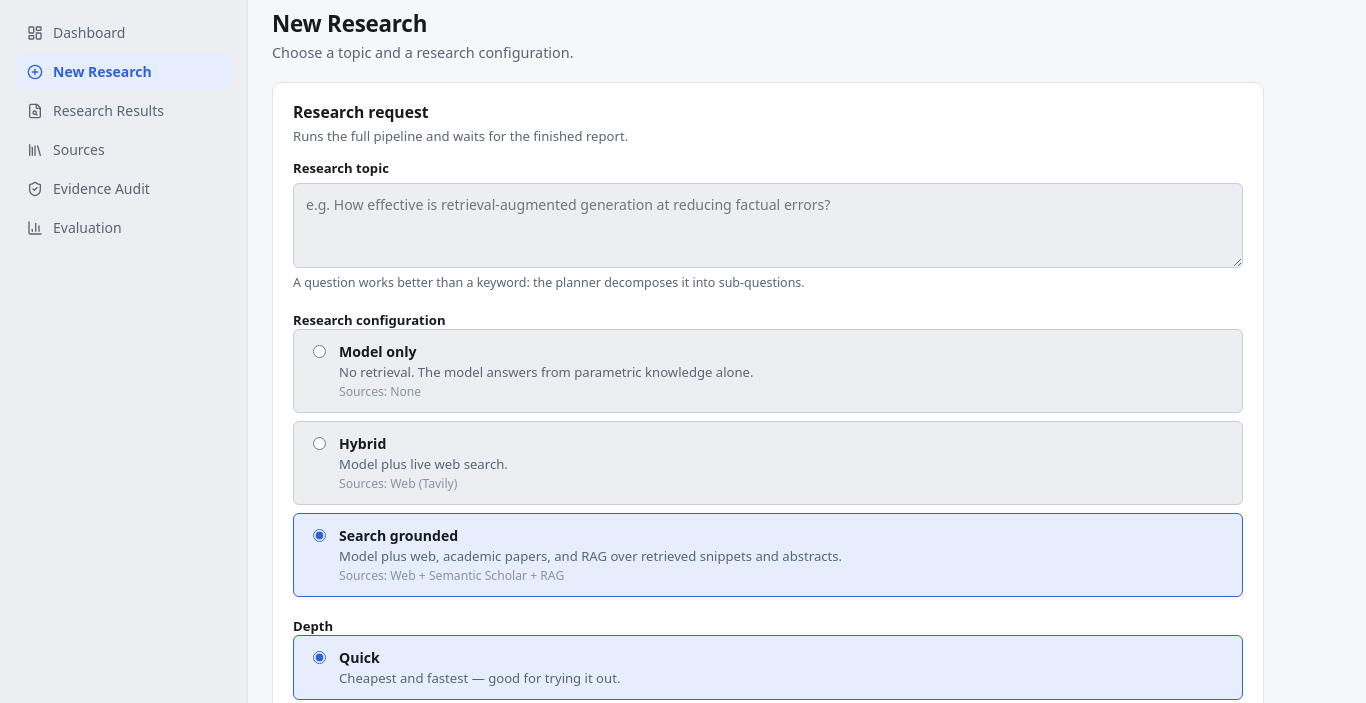
Test case: submission › shows the error envelope, with its code and request id, on failure
The image size is (1366, 703).
Type "Does retrieval reduce hallucination?" into the text box labelled "Research topic". click: point(768, 226)
box: [293, 183, 1243, 268]
(page scrolled)
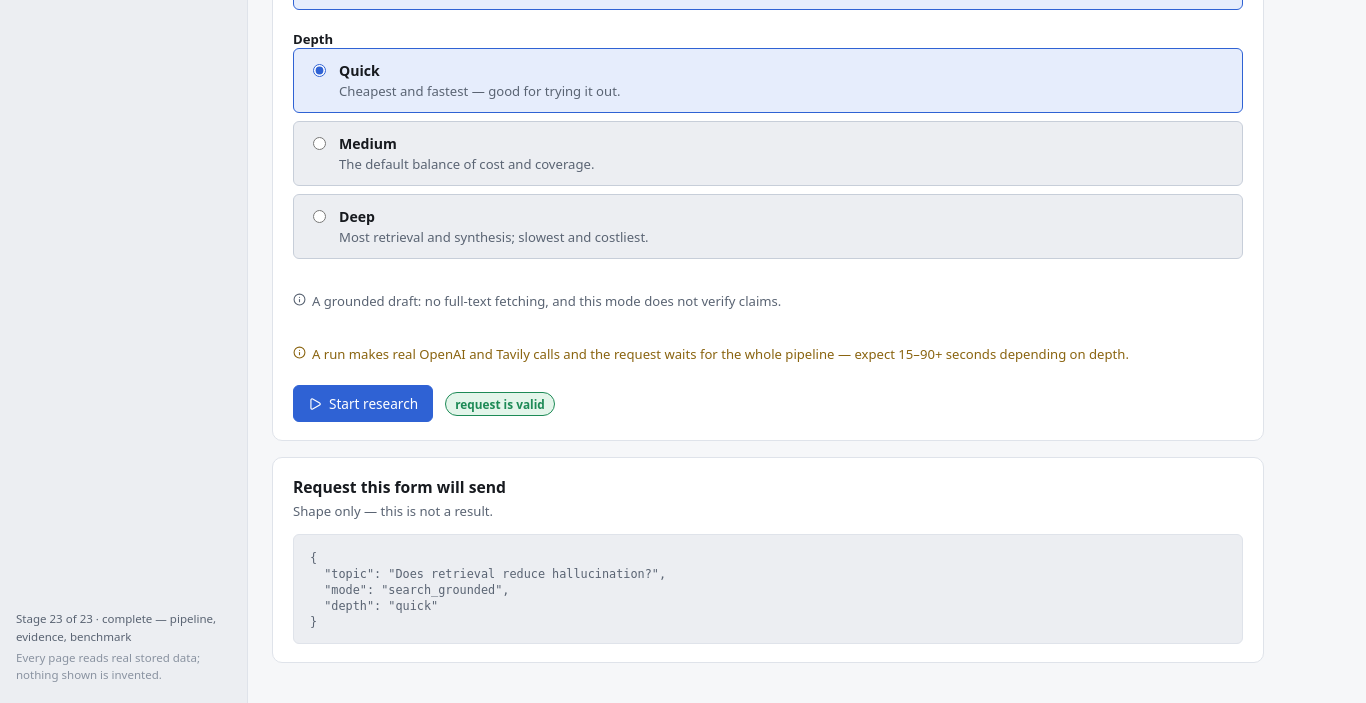
Click the button "Start research". click: point(363, 404)
box: [293, 385, 433, 422]
(page scrolled)
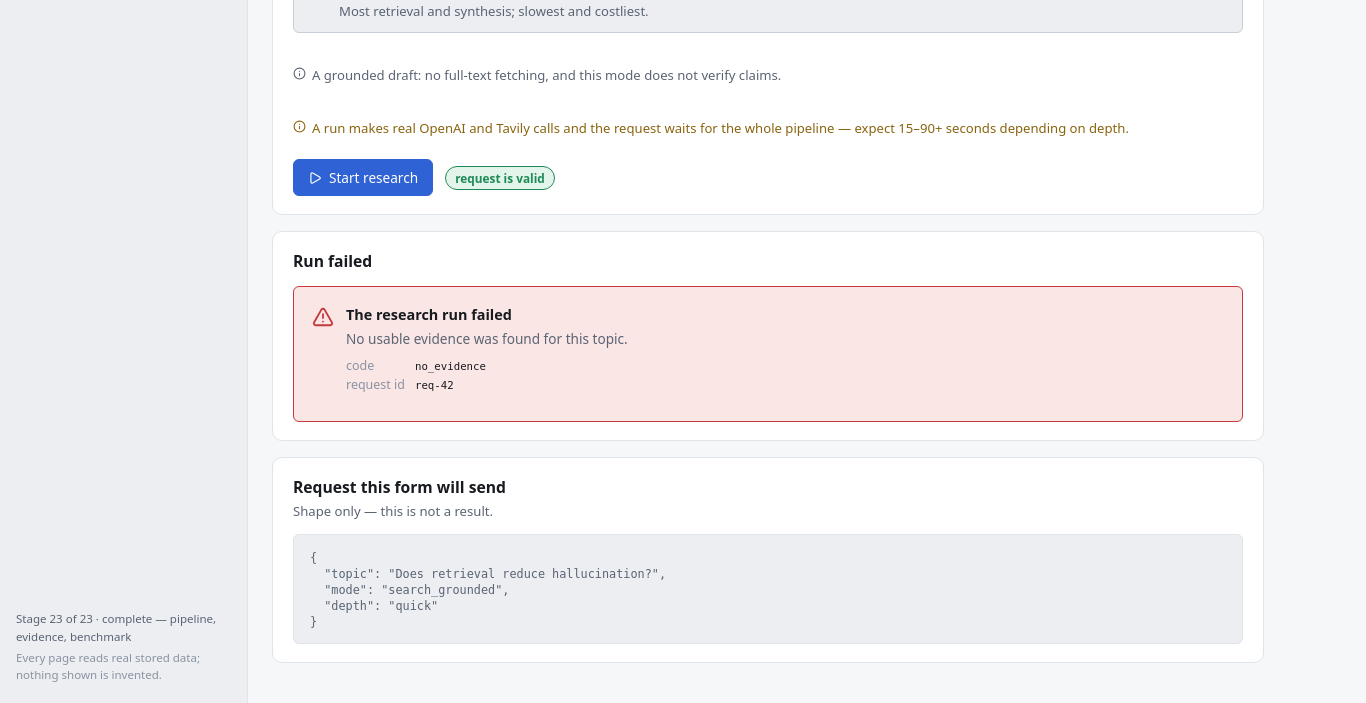
Now the text "No usable evidence was found for this topic." is shown, box [346, 328, 628, 349]
Now the text "no_evidence" is shown, box [415, 360, 486, 373]
Now the text "req-42" is shown, box [415, 379, 454, 392]
